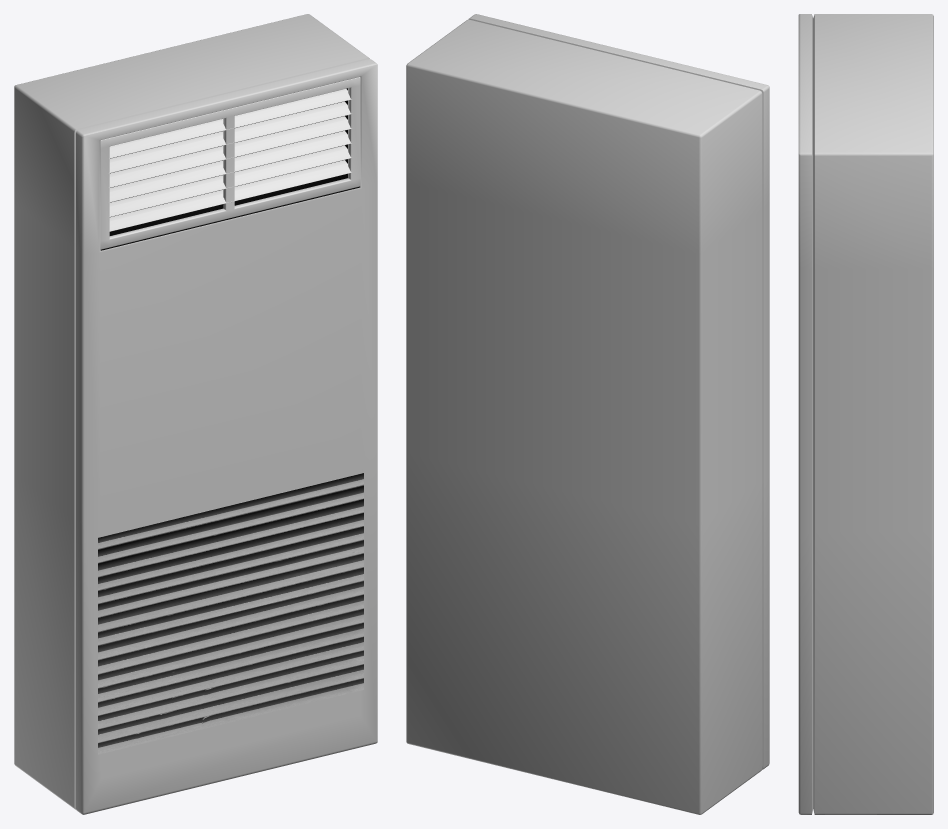
Rendered from 5ton_AC.gltf.
3 renders of one model, left to right at view 1: azimuth 30°, elevation 25°; view 2: azimuth 150°, elevation 25°; view 3: azimuth 270°, elevation 25°, orthographic. The views are drawn at different scales.
Parts seen in each view (by area): view 1: Cube.001, steel-grill, Cube.007, Cube.004; view 2: Cube.001; view 3: Cube.001.
Boxes of the visible parts, x1,y1,x2,y2 form: Cube.001: [14, 14, 377, 814]; steel-grill: [98, 473, 363, 754]; Cube.007: [108, 89, 351, 231]; Cube.004: [100, 77, 360, 249]; Cube.001: [406, 14, 769, 814]; Cube.001: [798, 14, 933, 814].
Size of the model in its own units: 8.6 by 18.9 by 3.51.
4 materials, 1 textured.
